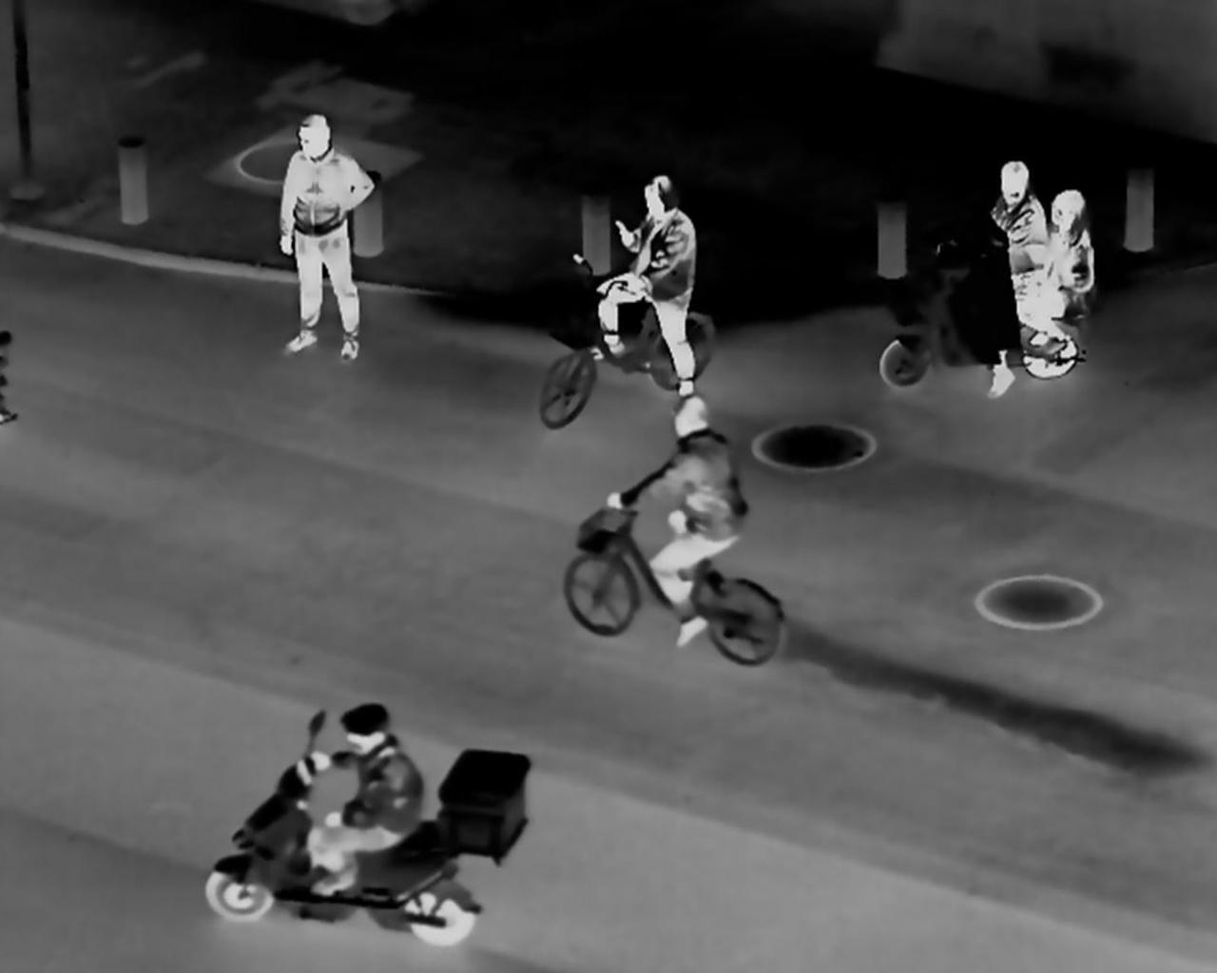person: (618, 400, 748, 645), (268, 109, 381, 366), (298, 696, 436, 903), (596, 164, 706, 403), (986, 157, 1047, 356), (1042, 185, 1090, 351)
